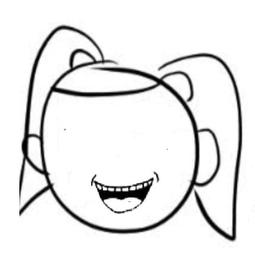ear: (180, 128, 230, 187), (16, 133, 56, 178)
open_mouth: (77, 169, 165, 220)
